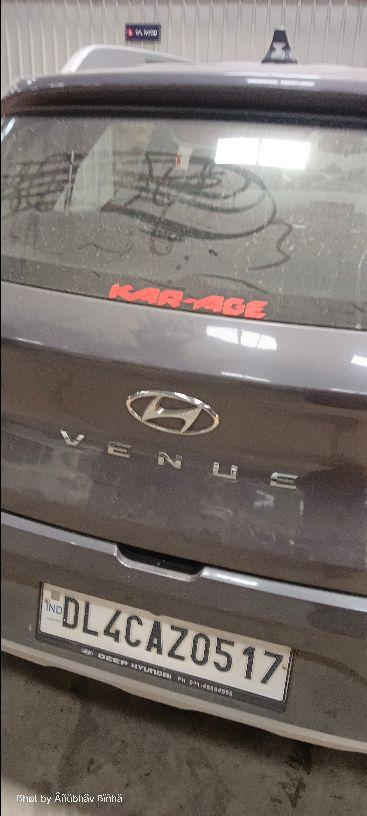license_plate: (1, 510, 365, 754), (34, 579, 295, 713)
